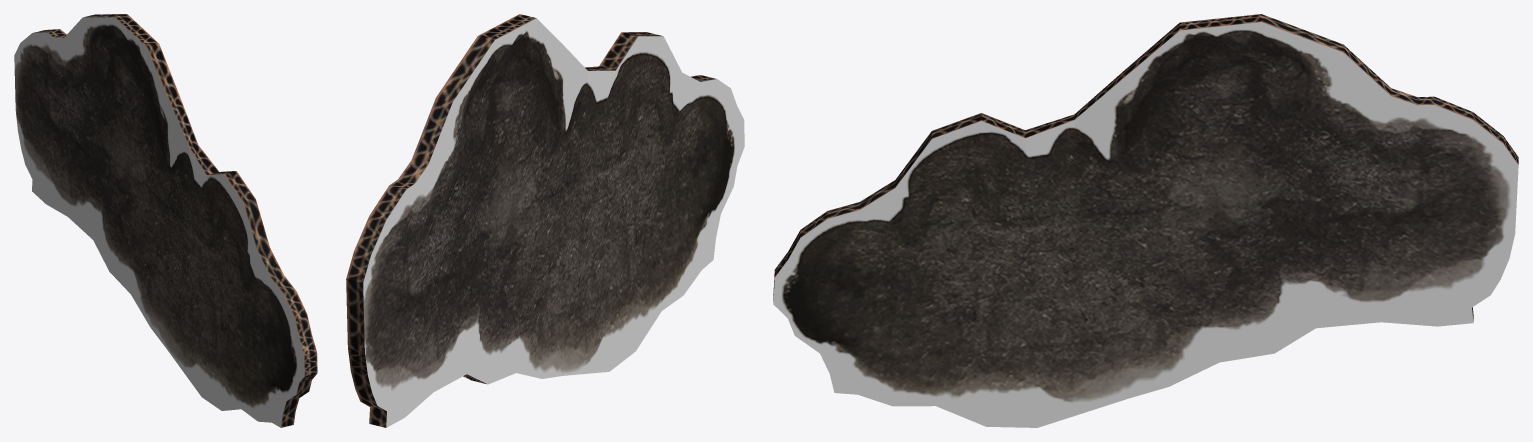
The model's file is Cloud-03.fbx.
3 views of the same model, side by side, from view 1: azimuth 30°, elevation 25°; view 2: azimuth 150°, elevation 25°; view 3: azimuth 270°, elevation 25° (orthographic). The views are drawn at different scales.
Parts seen in each view (by area): view 1: Cloud-03; view 2: Cloud-03; view 3: Cloud-03.
Part boxes in pixels (x1,y1,x2,y2): Cloud-03: (14,14,317,427); Cloud-03: (346,14,744,427); Cloud-03: (773,14,1518,427).
Size of the model in its own units: 10.72 by 250 by 416.
